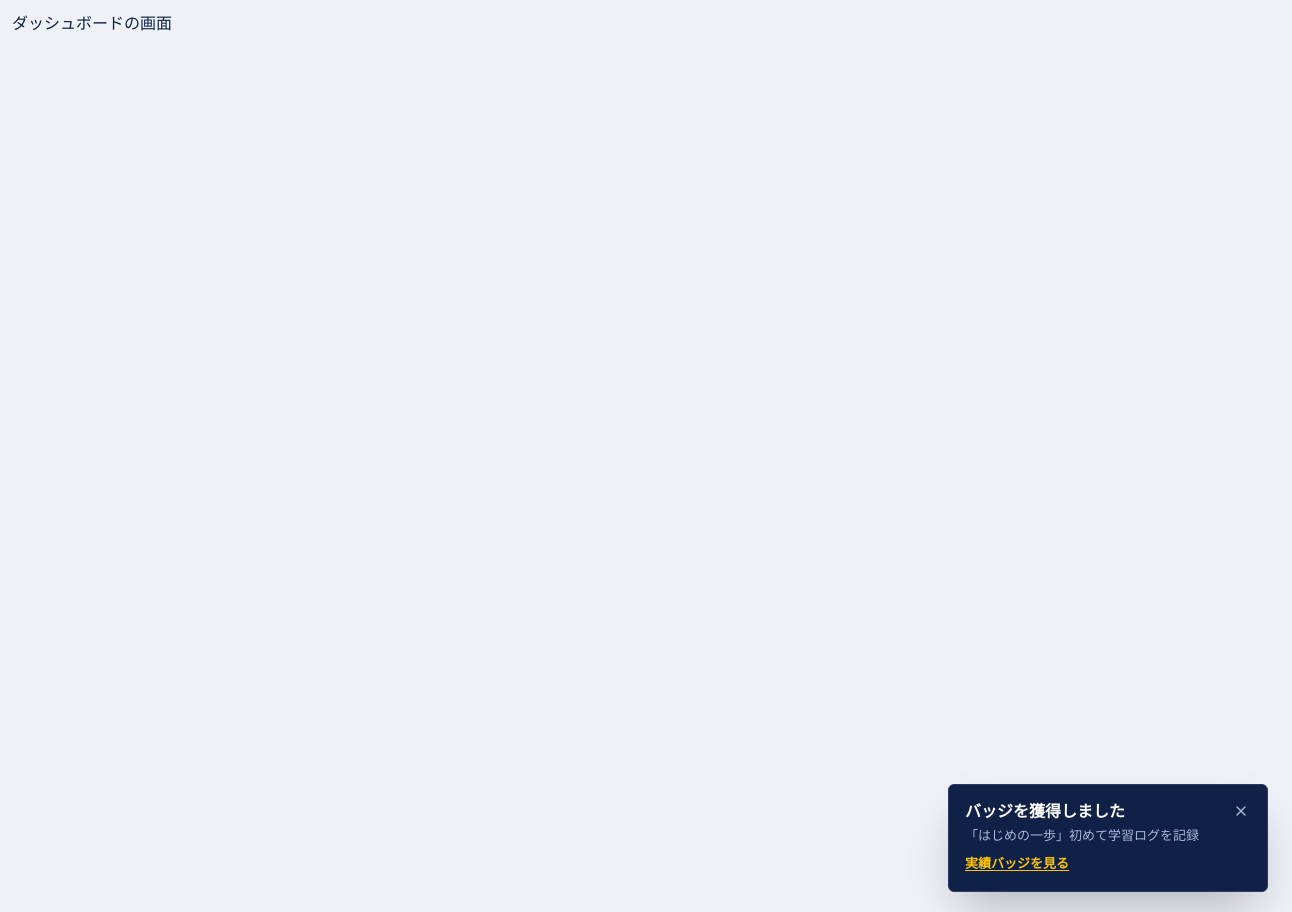
Scenario: Toaster › リンクを押すと、その画面へ移って通知を閉じる
Click the link "実績バッジを見る" at {"x": 1017, "y": 864}, box [965,854,1069,874]
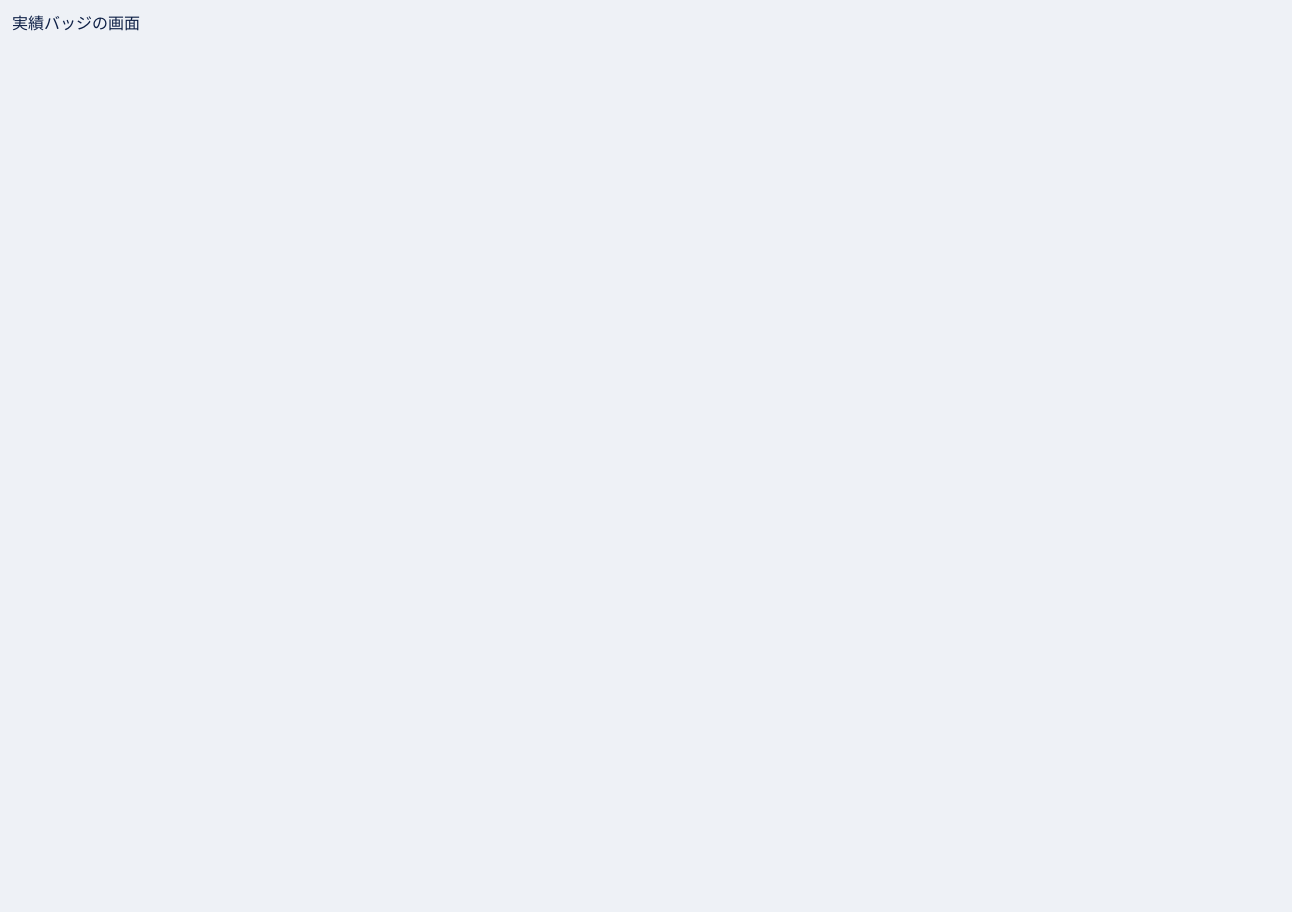
Result: the text "実績バッジの画面" is shown at [12,15,140,32]
